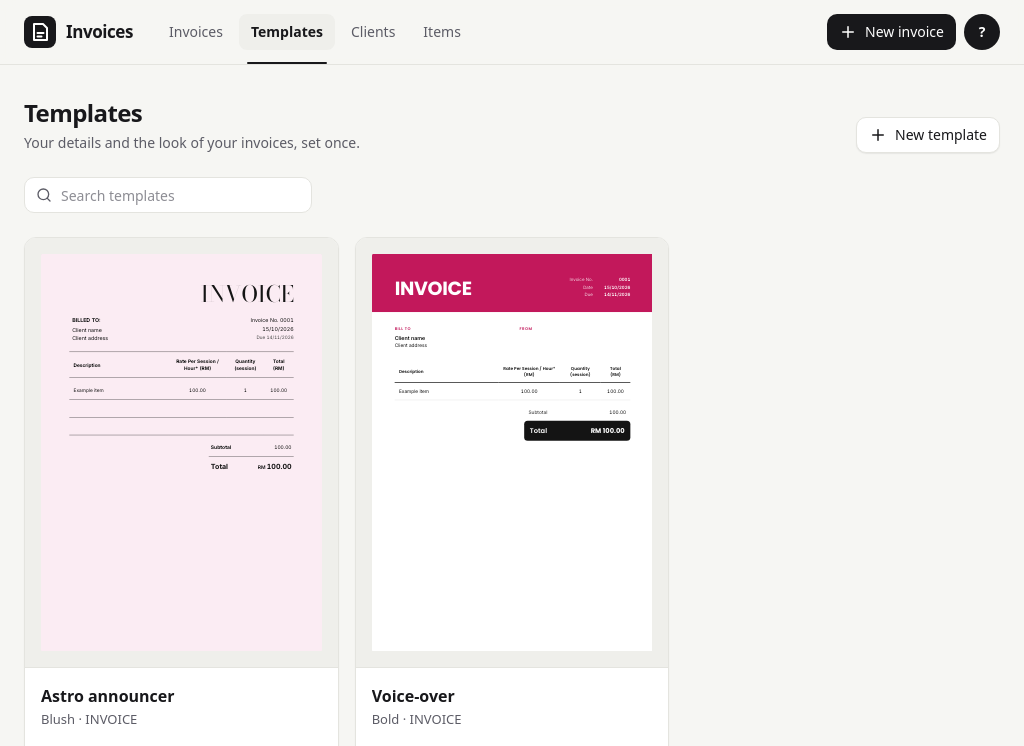
templates page › searches templates by name or layout
Type "bold" into the search field labelled "Search templates" at (168, 195), box x1=24 y1=177 x2=312 y2=213
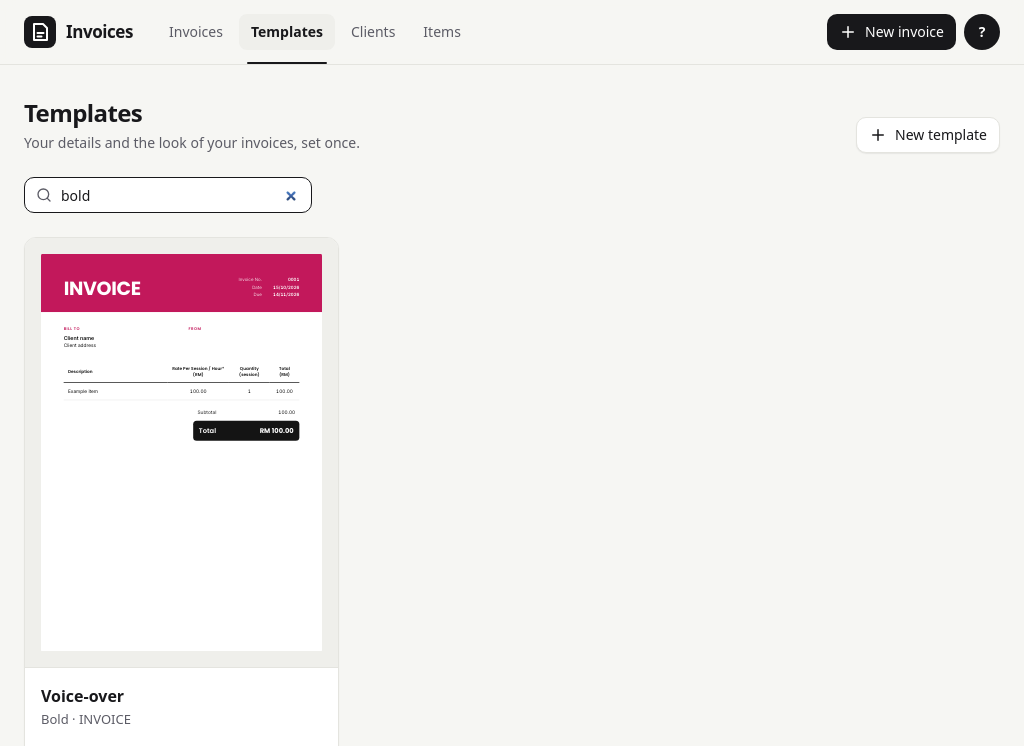
Expected: the link "Voice-over" is shown, x1=41 y1=685 x2=124 y2=707
Result: the link "Astro announcer" is gone
Replace the text in the search field named "Search templates" with "zzz" at (168, 195), box x1=24 y1=177 x2=312 y2=213
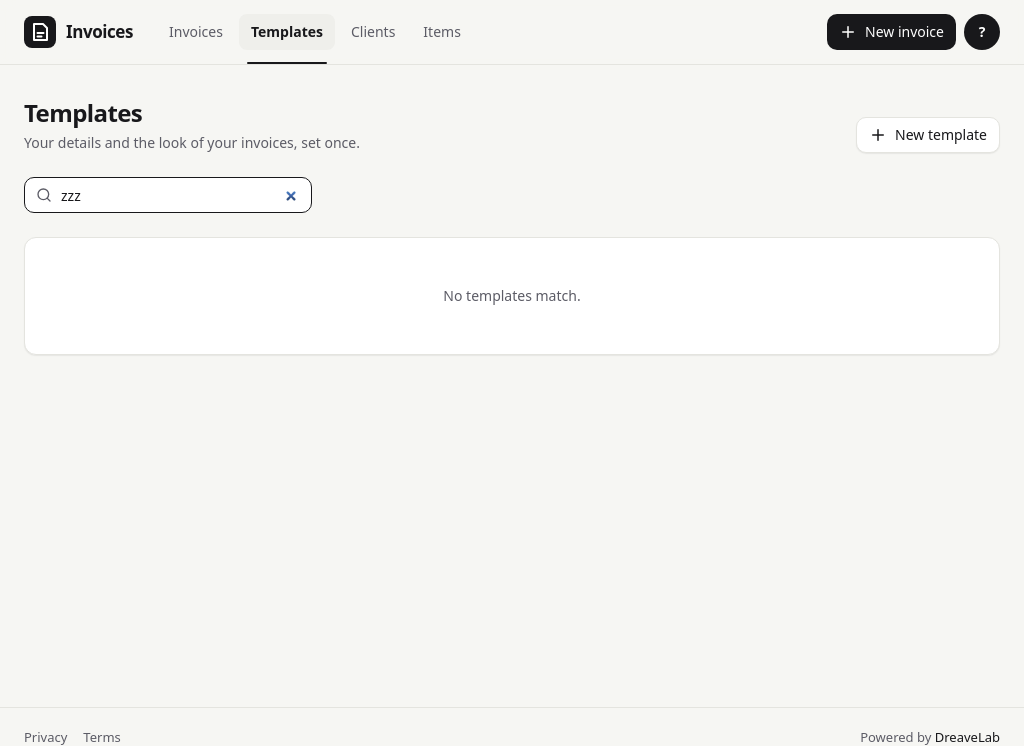
Result: the text "No templates match." is shown at x1=24 y1=237 x2=1000 y2=355
